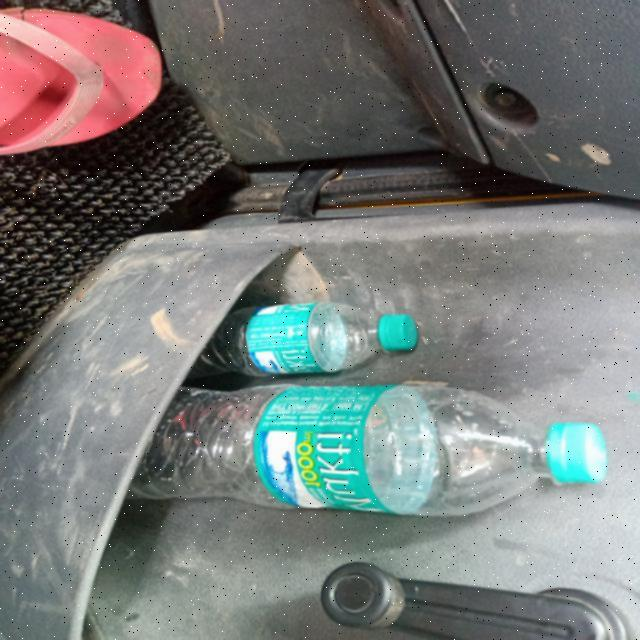bottle: (46, 374, 610, 520), (163, 304, 422, 377)
cap: (548, 423, 610, 487), (374, 310, 409, 355)
label: (254, 372, 426, 516), (239, 296, 343, 378)
